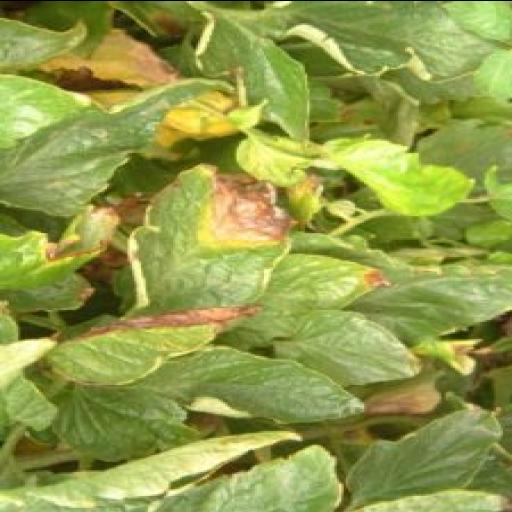disease_tomato: (123, 160, 297, 312), (40, 306, 256, 387)
